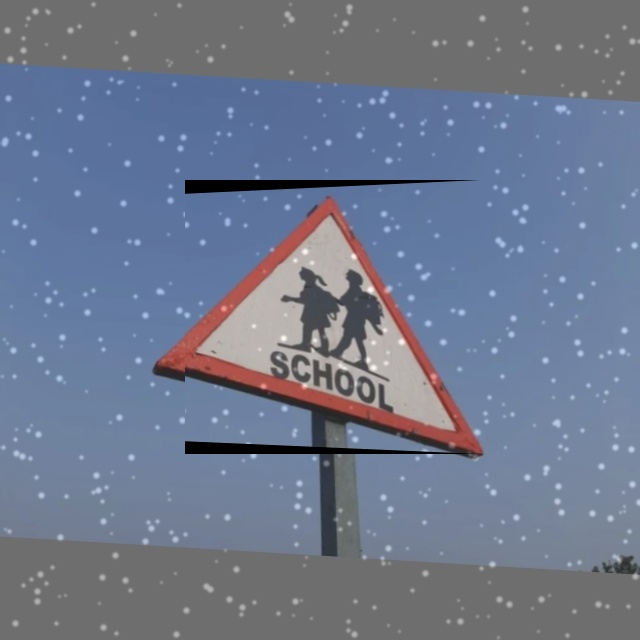School_Ahead: (185, 180, 481, 454)
